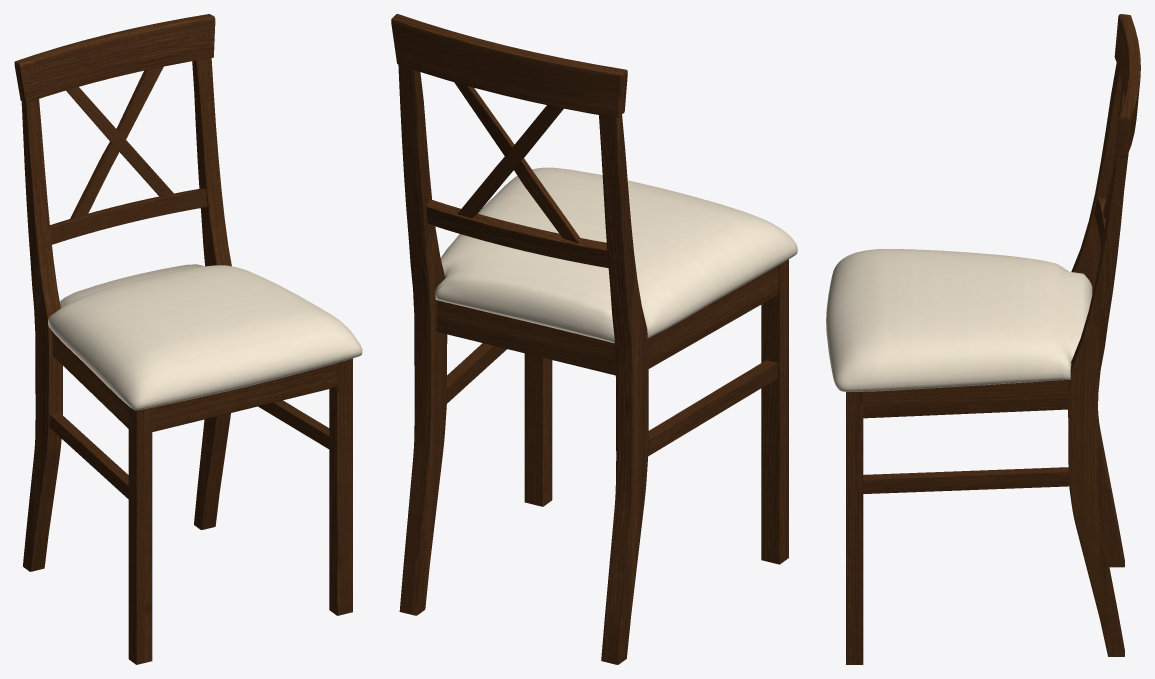
Rendered from B07K7LVRNS.glb.
3 renders of one model, left to right at view 1: azimuth 30°, elevation 25°; view 2: azimuth 150°, elevation 25°; view 3: azimuth 270°, elevation 25°, orthographic. The views are drawn at different scales.
Visible parts, largest first — view 1: B07K7LVRNS; view 2: B07K7LVRNS; view 3: B07K7LVRNS.
Boxes of the visible parts, <box> form: B07K7LVRNS: <box>14,14,362,664</box>; B07K7LVRNS: <box>391,14,797,664</box>; B07K7LVRNS: <box>826,14,1140,664</box>.
Size of the model in its own units: 0.4399 by 0.9129 by 0.4798.
Materials: 1 (1 with a texture image).
